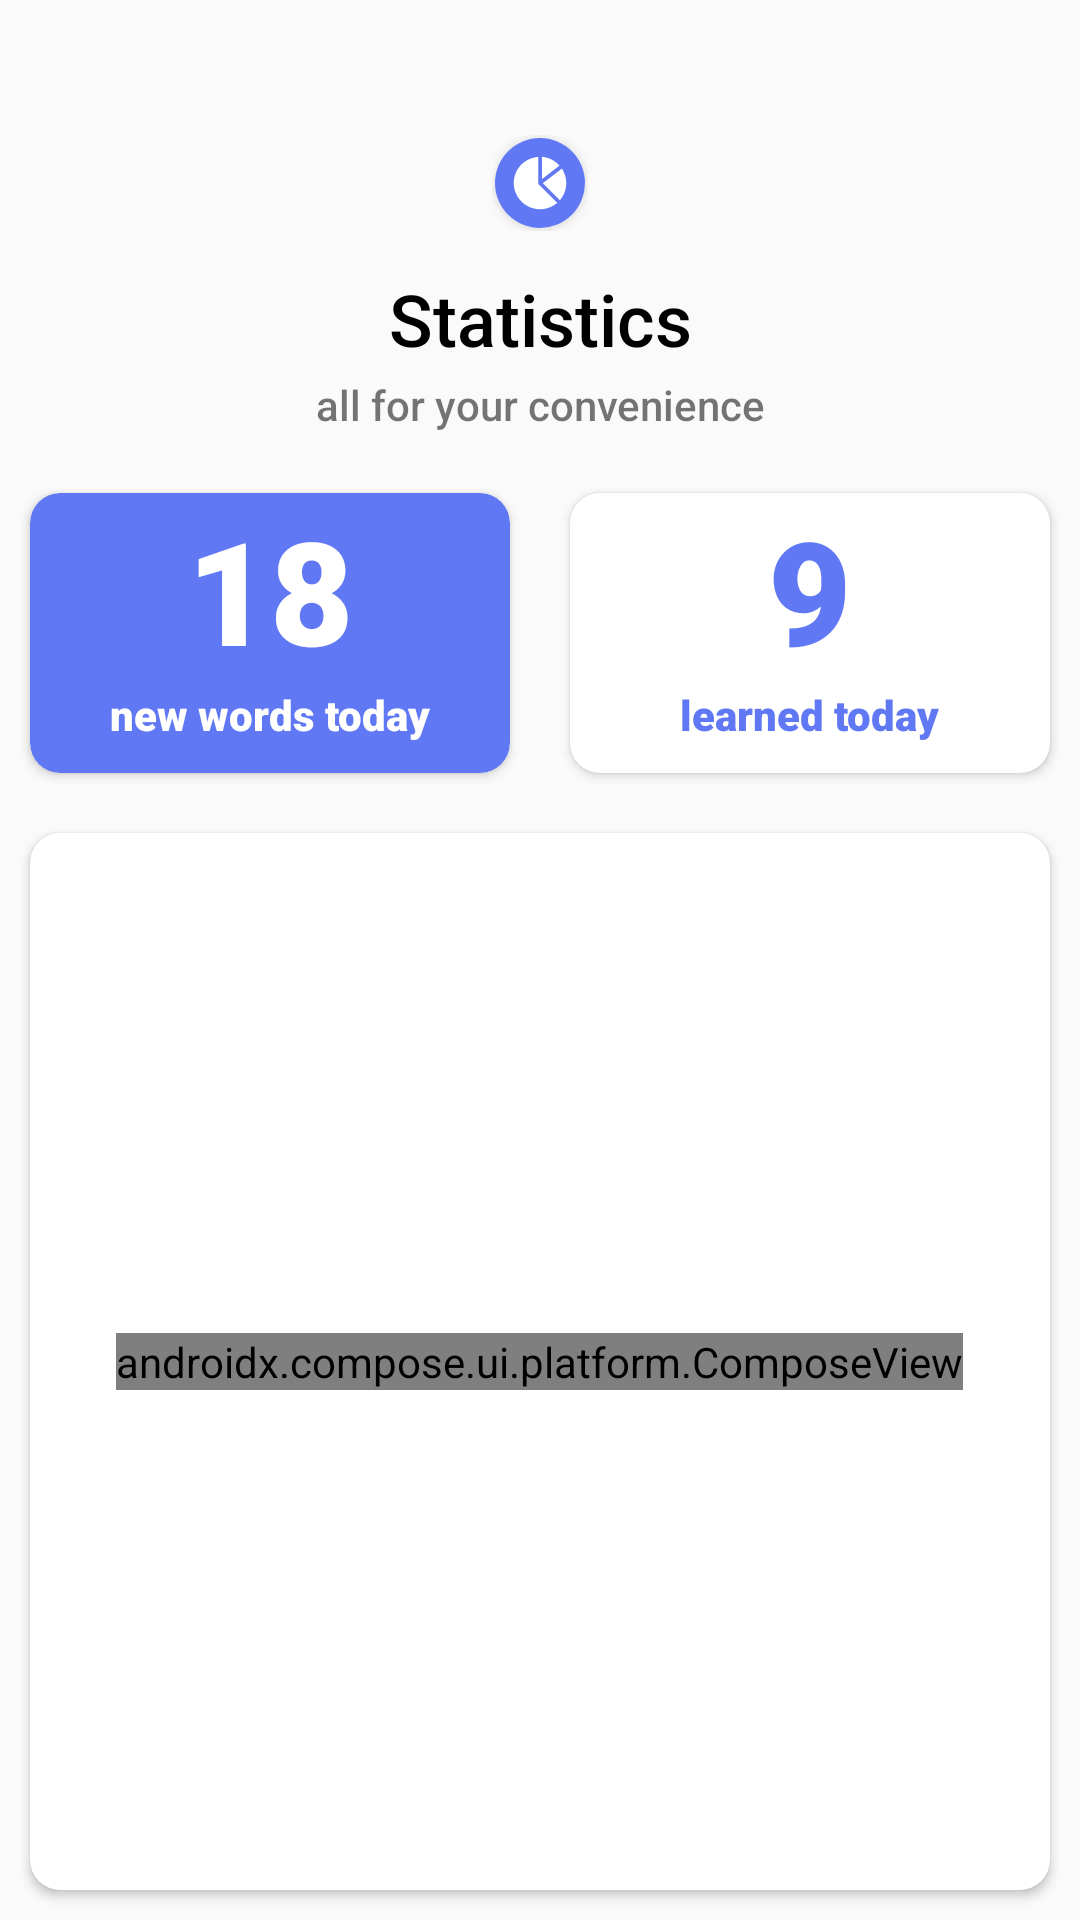

Screen size 1080x1920. Icon name, then its center in pixels as (x,y):
stats: (540,183)
